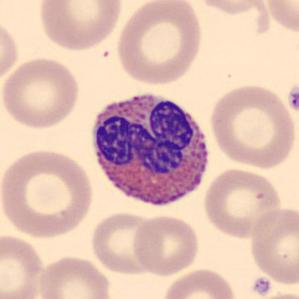Eosinophil: (85, 83, 218, 218)
Platelets: (285, 81, 299, 116), (251, 275, 272, 297)
RBC: (2, 148, 96, 239), (113, 0, 206, 87), (207, 81, 297, 170), (0, 55, 83, 130), (201, 166, 285, 240), (88, 210, 162, 276), (35, 0, 124, 53), (130, 212, 201, 278), (247, 204, 298, 288), (36, 253, 114, 299), (0, 232, 47, 299), (160, 266, 240, 299), (0, 15, 21, 88), (192, 0, 271, 17), (260, 0, 299, 34), (250, 291, 298, 299)
